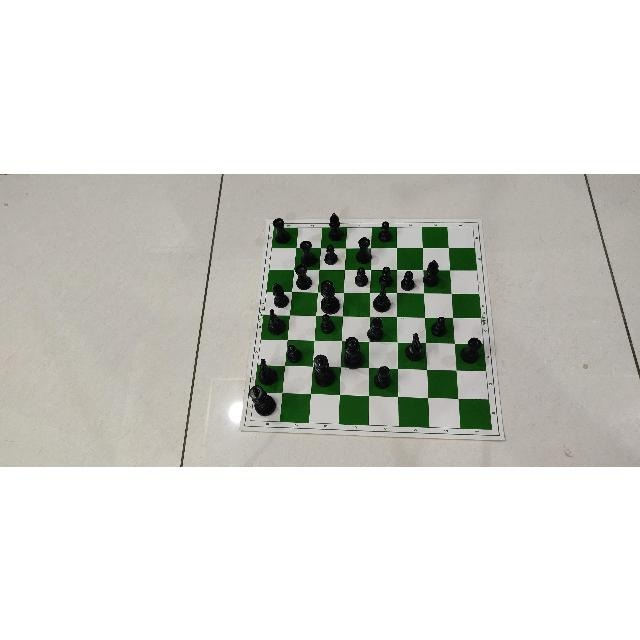black-bishop: (323, 211, 346, 241), (323, 210, 345, 241), (421, 257, 443, 288), (270, 281, 292, 309), (374, 362, 396, 390), (366, 315, 388, 342), (373, 360, 393, 389), (368, 314, 388, 342), (424, 259, 442, 287), (270, 281, 290, 306)
black-king: (243, 381, 279, 419), (308, 349, 337, 389), (248, 384, 278, 416), (310, 352, 336, 388)
black-knight: (261, 306, 291, 335), (402, 332, 428, 364), (252, 358, 282, 384), (255, 356, 279, 387), (266, 307, 288, 336), (374, 285, 394, 314), (372, 284, 392, 313), (405, 332, 425, 360)
black-pawn: (314, 312, 340, 333), (429, 313, 450, 339), (374, 220, 397, 242), (375, 266, 397, 287), (399, 270, 419, 292), (320, 242, 340, 263), (377, 219, 395, 242), (377, 263, 394, 287), (351, 266, 370, 287), (283, 340, 302, 361), (432, 314, 450, 336), (319, 315, 337, 335), (323, 243, 339, 265), (286, 341, 302, 361), (401, 268, 416, 288), (354, 268, 369, 288)
black-queen: (314, 278, 341, 315), (340, 333, 365, 370), (318, 276, 341, 314), (342, 335, 367, 368)
black-rook: (457, 334, 484, 367), (293, 239, 320, 266), (268, 217, 293, 244), (269, 216, 292, 245), (463, 334, 483, 365), (299, 238, 319, 268), (290, 265, 313, 291), (355, 232, 373, 264), (353, 236, 373, 262), (294, 265, 314, 289)
